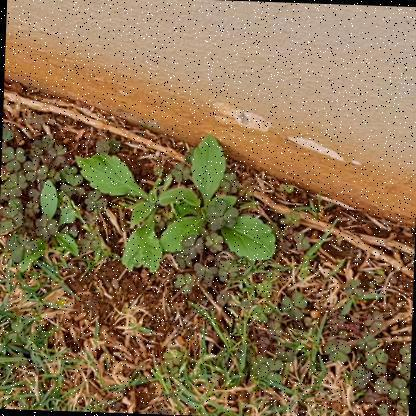Weeds: (160, 132, 280, 266), (74, 151, 204, 274)
